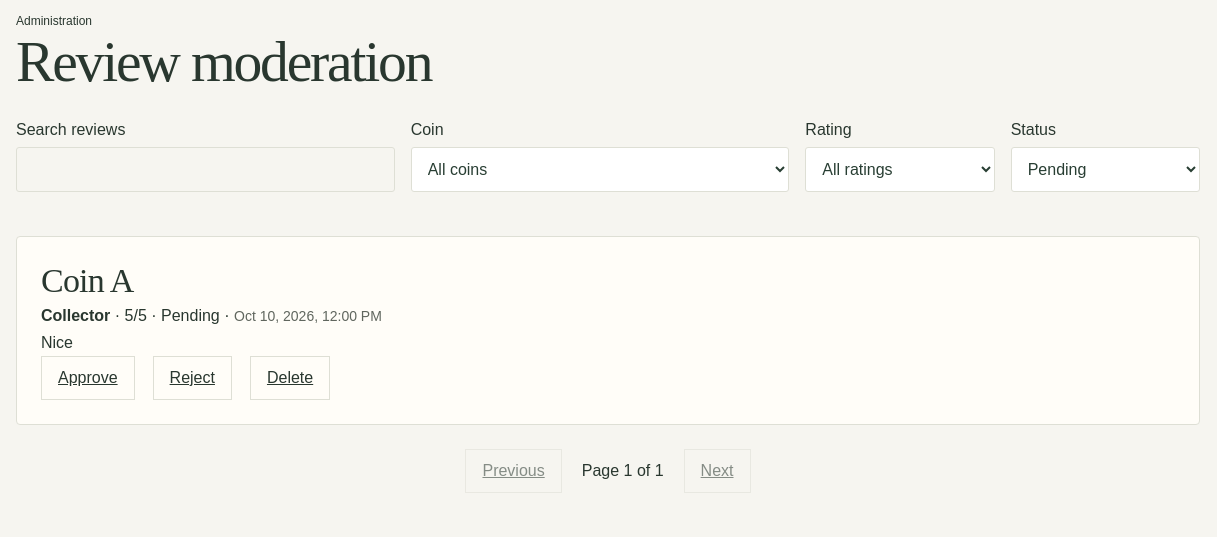
Test: moderation › approves a pending review using the owner API
Click the button "Approve": click(88, 378) [41,356,135,400]
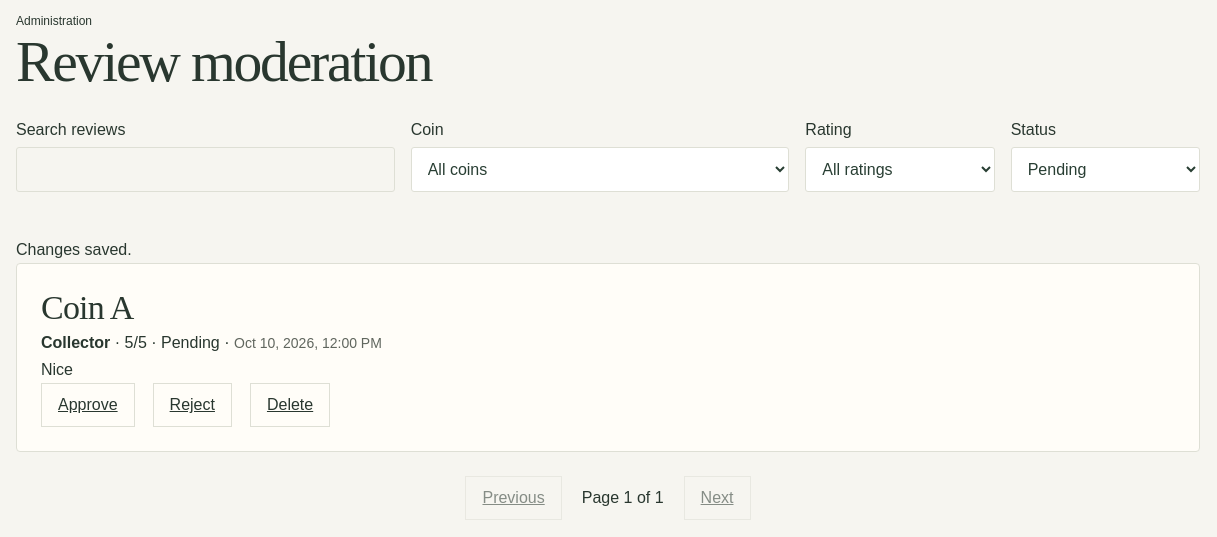
Now the text "Changes saved." is shown, box [16,241,132,258]
